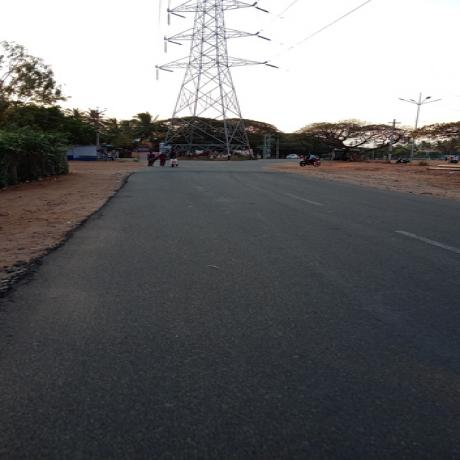Speed Bump: (128, 169, 294, 176)
